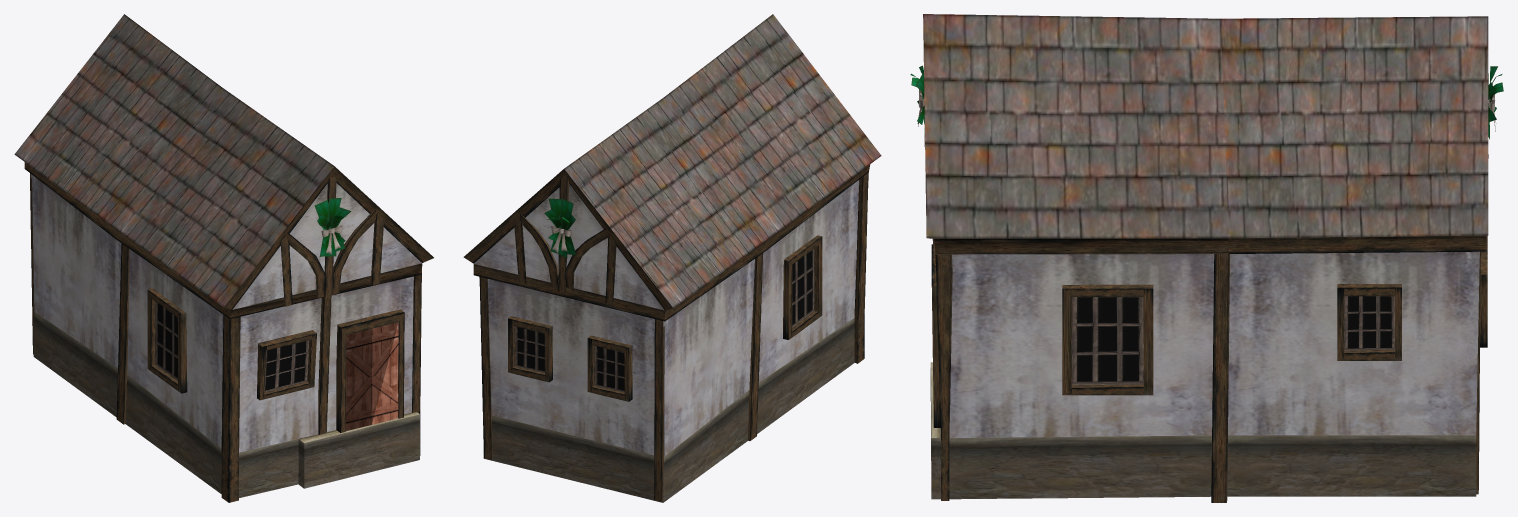
File: english_m.fbx
3 renders of one model, left to right at view 1: azimuth 30°, elevation 25°; view 2: azimuth 150°, elevation 25°; view 3: azimuth 270°, elevation 25°, orthographic. The views are drawn at different scales.
Parts seen in each view (by area): view 1: building_shell1, building_shell10, door_left, window_a_01, window_a_03, door_frame, beam_vert_tall03, beam_vert_tall014, beam_vert_tall012, beam_vert_tall010, beam_vert_tall013, beam_vert_tall017 (+1 smaller); view 2: building_shell1, window_a_03, window_b_02, window_b_01, beam_vert_tall016, beam_vert_tall03, beam_vert_tall015, beam_vert_tall05, beam_vert_tall06, beam_vert_tall08, beam_vert_tall07, beam_vert_tall04; view 3: building_shell1, window_a_02, window_b_03, beam_vert_tall01, door_frame, window_b_01, beam_vert_tall015, building_shell10.
Part boxes in pixels (box(x1,y1,x2,y2)): building_shell1: box(14, 14, 433, 502); building_shell10: box(298, 414, 419, 488); door_left: box(345, 322, 398, 430); window_a_01: box(257, 330, 316, 400); window_a_03: box(147, 288, 187, 393); door_frame: box(336, 309, 404, 432); beam_vert_tall03: box(116, 243, 129, 424); beam_vert_tall014: box(318, 295, 331, 434); beam_vert_tall012: box(332, 210, 377, 294); beam_vert_tall010: box(285, 232, 324, 298); beam_vert_tall013: box(370, 213, 384, 285); beam_vert_tall017: box(280, 235, 292, 306); building_shell1: box(463, 14, 881, 502); window_a_03: box(783, 235, 822, 339); window_b_02: box(587, 335, 632, 401); window_b_01: box(508, 316, 552, 382); beam_vert_tall016: box(654, 319, 664, 501); beam_vert_tall03: box(748, 253, 763, 440); beam_vert_tall015: box(479, 277, 492, 460); beam_vert_tall05: box(565, 228, 610, 291); beam_vert_tall06: box(521, 215, 559, 290); beam_vert_tall08: box(514, 214, 526, 283); beam_vert_tall07: box(605, 236, 616, 304); beam_vert_tall04: box(558, 175, 568, 293); building_shell1: box(923, 14, 1488, 500); window_a_02: box(1062, 284, 1153, 395); window_b_03: box(1337, 284, 1401, 360); beam_vert_tall01: box(1211, 254, 1229, 502); door_frame: box(931, 244, 940, 427); window_b_01: box(1480, 247, 1487, 347); beam_vert_tall015: box(1476, 251, 1480, 494); building_shell10: box(930, 368, 940, 499).
Size of the model in its own units: 2446 by 3555 by 4430.
Materials: 2 (2 with a texture image).
